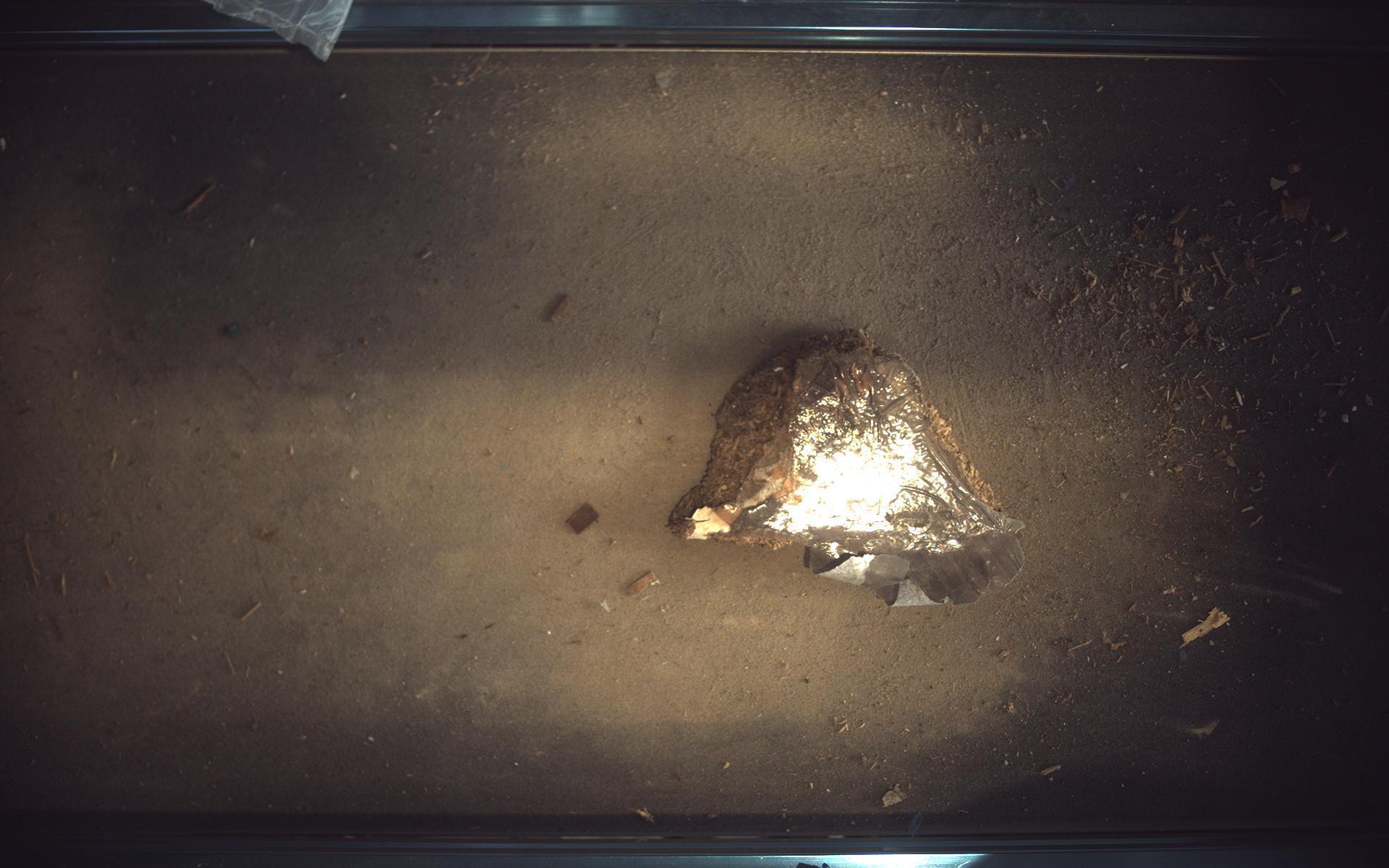wood: (668, 329, 1026, 606)
